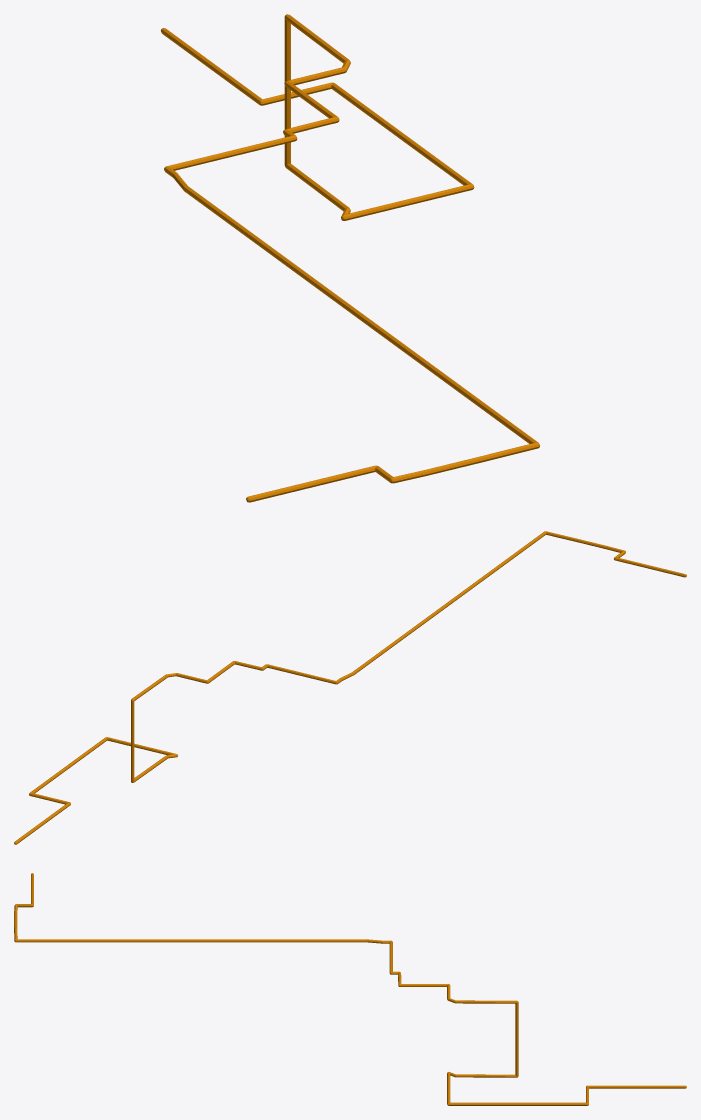
The picture shows the model from 3 angles, top to bottom: view 1: azimuth 30°, elevation 25°; view 2: azimuth 150°, elevation 25°; view 3: azimuth 270°, elevation 25°; orthographic projection. The views are drawn at different scales.
Size of the model in its own units: 2278 by 520 by 4124.
